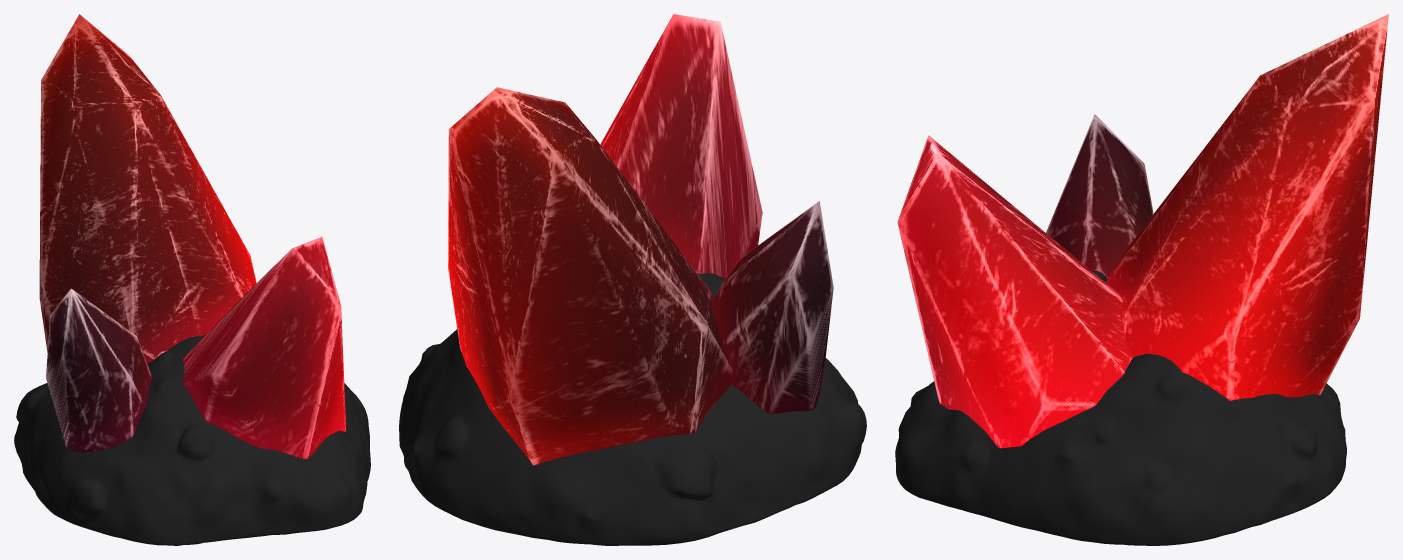
Rendered from cristal.glb.
3 renders of one model, left to right at view 1: azimuth 30°, elevation 25°; view 2: azimuth 150°, elevation 25°; view 3: azimuth 270°, elevation 25°, orthographic. The views are drawn at different scales.
Parts seen in each view (by area): view 1: cristal_low; view 2: cristal_low; view 3: cristal_low.
Boxes of the visible parts, box(x1,y1,x2,y2) form: cristal_low: box(14, 14, 370, 545); cristal_low: box(399, 14, 866, 545); cristal_low: box(895, 14, 1388, 545).
Bounding box in the file's own units: 2.07 × 2.32 × 2.37.
Materials: 1 (1 with a texture image).
